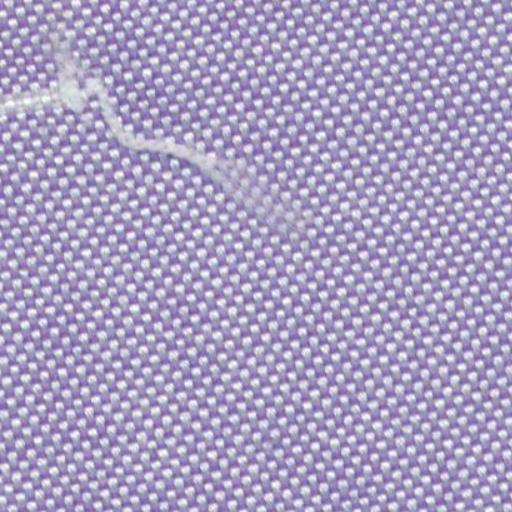DuanSha: (28, 42, 316, 238)
